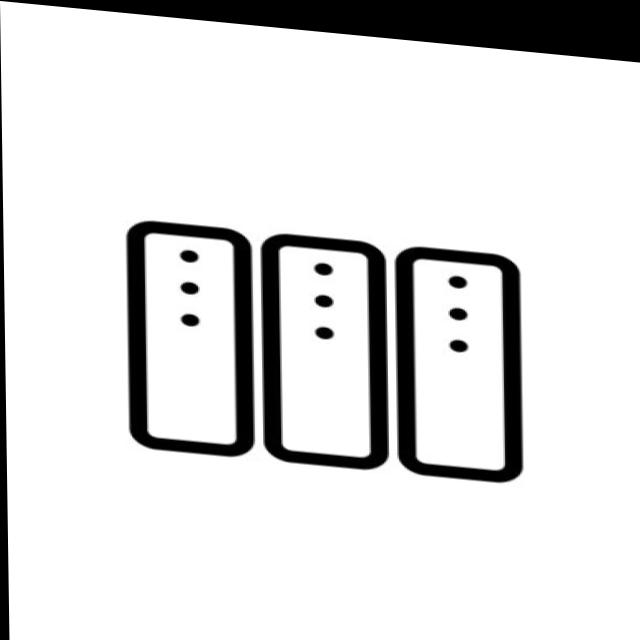Router: (101, 138, 610, 536)
